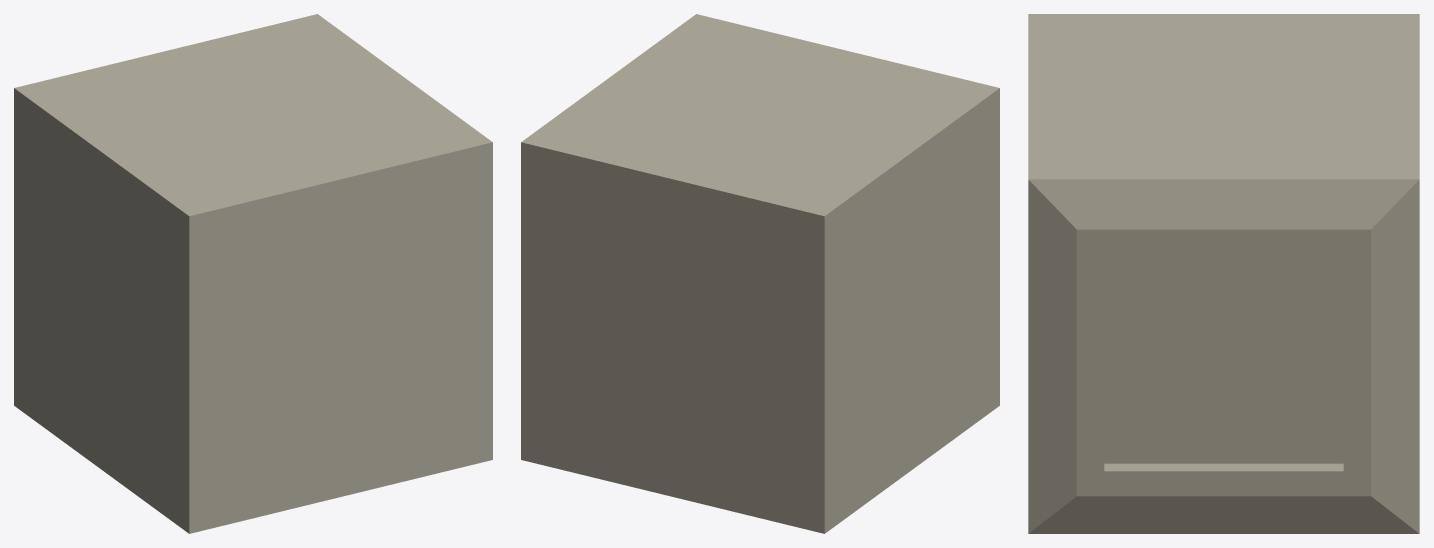
File: first-cube.obj
The picture shows the model from 3 angles, left to right: view 1: azimuth 30°, elevation 25°; view 2: azimuth 150°, elevation 25°; view 3: azimuth 270°, elevation 25°; orthographic projection. The views are drawn at different scales.
Parts seen in each view (by area): view 1: Box; view 2: Box; view 3: Box.
Boxes of the visible parts, x1=… form: Box: x1=14, y1=14, x2=492, y2=533; Box: x1=521, y1=14, x2=999, y2=533; Box: x1=1028, y1=14, x2=1419, y2=533.
Size of what is drawn, in the model's own units: 1.04 by 1 by 1.
